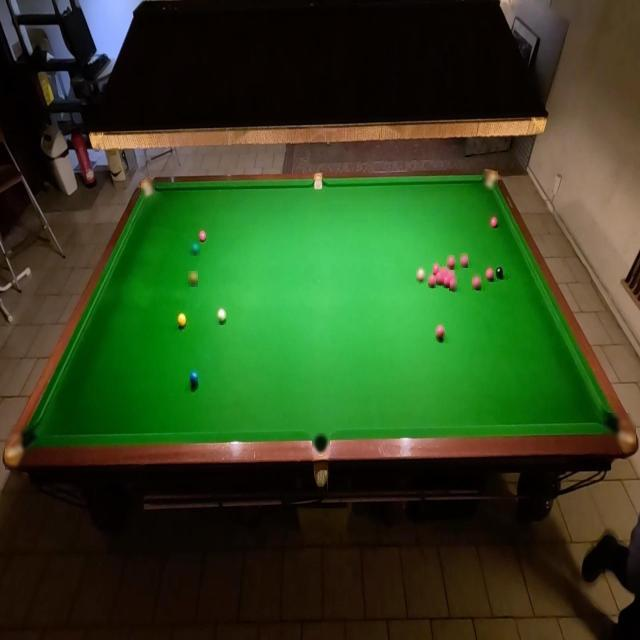Ball: (176, 312, 186, 332), (188, 369, 198, 389), (216, 306, 226, 325), (435, 323, 445, 341), (416, 267, 426, 284), (188, 272, 198, 288), (496, 265, 506, 281), (191, 240, 200, 256), (472, 274, 481, 290), (486, 266, 494, 282), (436, 270, 444, 285), (450, 277, 458, 291), (442, 274, 450, 288), (428, 274, 436, 288), (447, 256, 455, 270), (490, 216, 498, 230), (461, 253, 468, 268), (198, 230, 206, 242), (434, 263, 442, 275), (441, 267, 448, 278), (448, 270, 454, 281)
Pocket: (6, 425, 40, 470), (603, 414, 636, 452), (312, 434, 330, 456), (482, 171, 498, 190), (141, 180, 155, 199), (314, 174, 326, 192)
